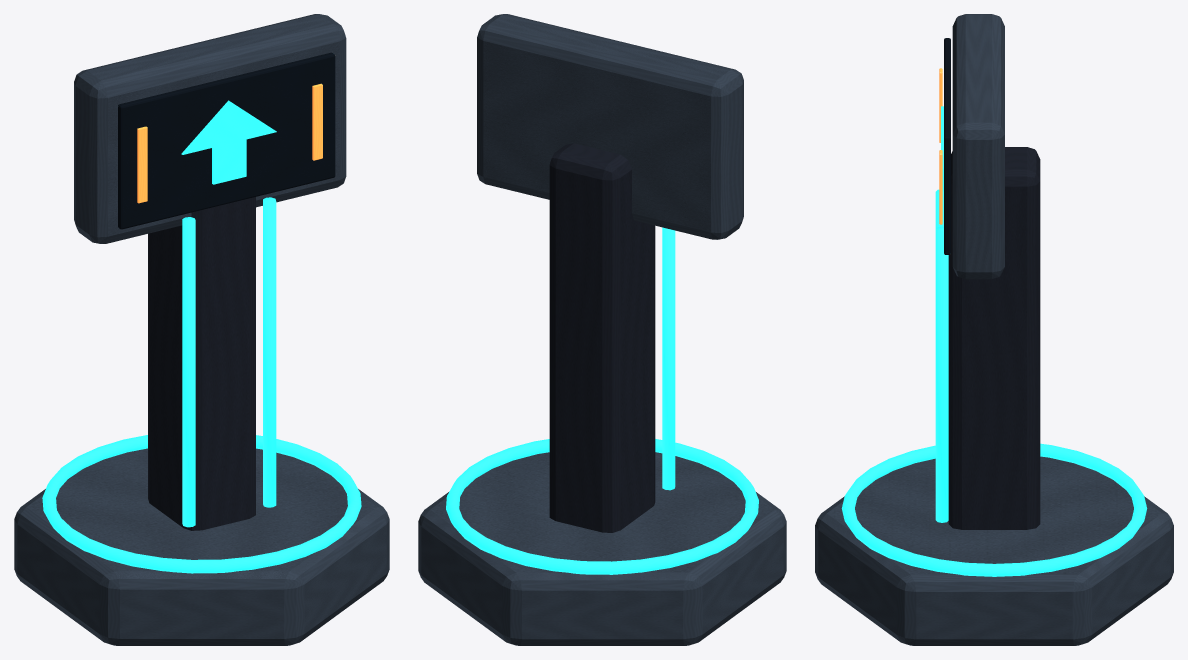
File: MissionBeacon.fbx
The picture shows the model from 3 angles, left to right: view 1: azimuth 30°, elevation 25°; view 2: azimuth 150°, elevation 25°; view 3: azimuth 270°, elevation 25°; orthographic projection. The views are drawn at different scales.
Parts seen in each view (by area): view 1: SM_MissionBeacon; view 2: SM_MissionBeacon; view 3: SM_MissionBeacon.
Part boxes in pixels (bbox=[...]): SM_MissionBeacon: bbox=[14, 14, 389, 645]; SM_MissionBeacon: bbox=[418, 14, 786, 645]; SM_MissionBeacon: bbox=[815, 14, 1173, 645].
Size of the model in its own units: 121 by 137 by 218.
Materials: 1 (1 with a texture image).
